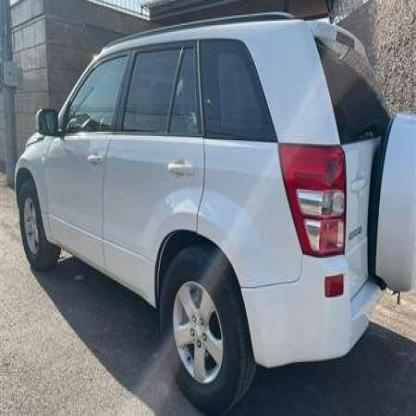Car: (16, 11, 416, 403)
